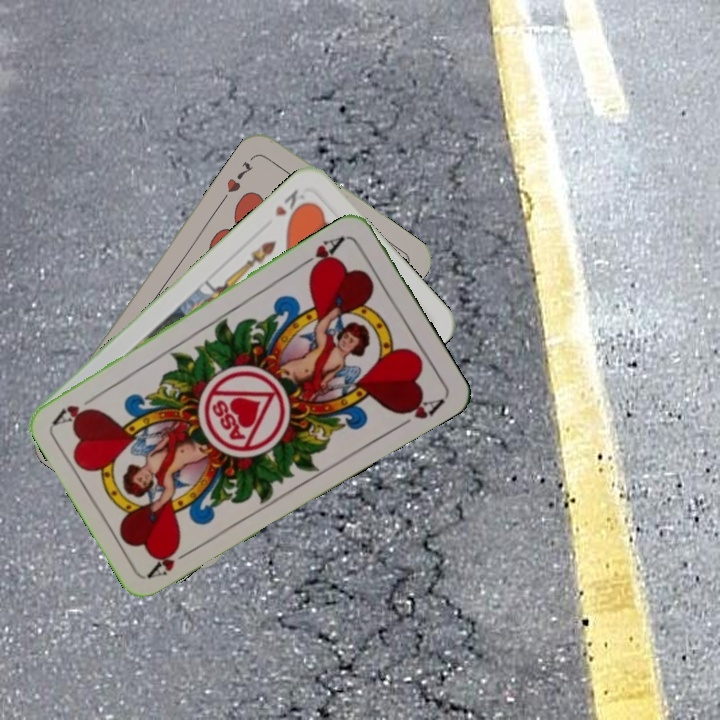H7: (222, 157, 256, 196)
HA: (144, 539, 198, 581), (296, 232, 348, 275)
HK: (270, 185, 311, 224)
